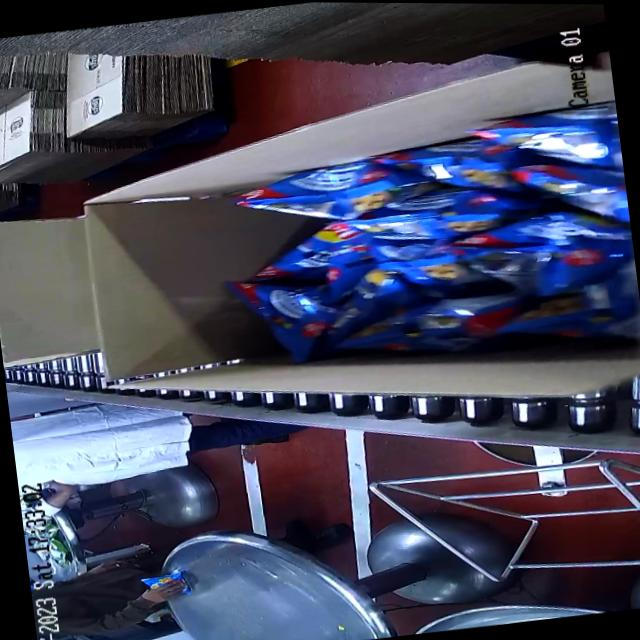PAPRIKA: (208, 97, 640, 380)
